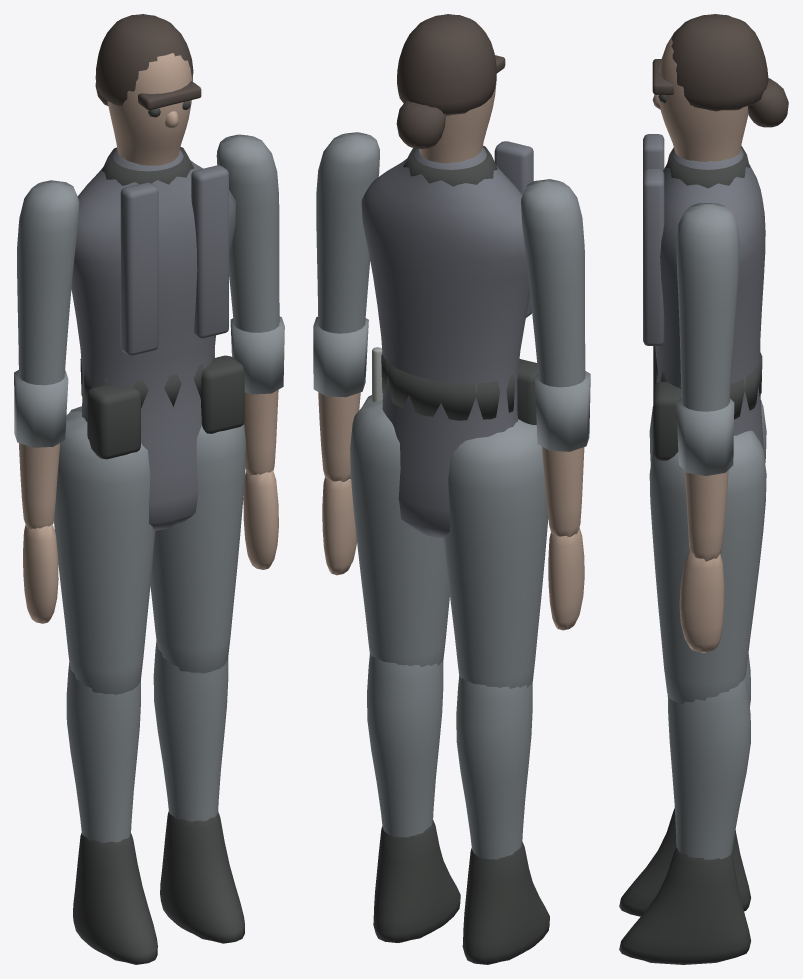
File: resident_b_v5.glb
3 renders of one model, left to right at view 1: azimuth 30°, elevation 25°; view 2: azimuth 150°, elevation 25°; view 3: azimuth 270°, elevation 25°, orthographic. The views are drawn at different scales.
Parts seen in each view (by area): view 1: Resident_Torso, Resident_Leg_-1, Resident_Leg_1, Resident_Arm_-1, Resident_Shin_1, Resident_Shin_-1, Resident_Arm_1, Resident_Boot_-1, Resident_Boot_1, Resident_Strap_-1, Resident_Strap_1, Resident_Head (+12 smaller); view 2: Resident_Torso, Resident_Leg_-1, Resident_Leg_1, Resident_Shin_-1, Resident_Shin_1, Resident_Arm_-1, Resident_Arm_1, Resident_Hair, Resident_Boot_1, Resident_Boot_-1, Resident_Belt, Resident_Cuff_-1 (+10 smaller); view 3: Resident_Leg_1, Resident_Torso, Resident_Shin_1, Resident_Arm_1, Resident_Boot_1, Resident_Hair, Resident_Head, Resident_Hand_1, Resident_Cuff_1, Resident_Strap_1, Resident_Forearm_1, Resident_Boot_-1 (+6 smaller).
Part boxes in pixels (left/top/right/bottom): Resident_Torso: left=71, top=148, right=236, bottom=530; Resident_Leg_-1: left=54, top=406, right=155, bottom=694; Resident_Leg_1: left=150, top=424, right=245, bottom=673; Resident_Arm_-1: left=17, top=180, right=79, bottom=385; Resident_Shin_1: left=153, top=641, right=228, bottom=821; Resident_Shin_-1: left=66, top=663, right=140, bottom=842; Resident_Arm_1: left=216, top=134, right=279, bottom=332; Resident_Boot_-1: left=73, top=833, right=157, bottom=964; Resident_Boot_1: left=160, top=811, right=244, bottom=943; Resident_Strap_-1: left=120, top=182, right=158, bottom=355; Resident_Strap_1: left=191, top=165, right=228, bottom=338; Resident_Head: left=107, top=53, right=192, bottom=165; Resident_Torso: left=361, top=147, right=529, bottom=538; Resident_Leg_-1: left=443, top=419, right=548, bottom=688; Resident_Leg_1: left=350, top=393, right=449, bottom=666; Resident_Shin_-1: left=456, top=675, right=532, bottom=859; Resident_Shin_1: left=367, top=653, right=443, bottom=837; Resident_Arm_-1: left=521, top=179, right=585, bottom=387; Resident_Arm_1: left=316, top=132, right=379, bottom=333; Resident_Hair: left=397, top=14, right=496, bottom=115; Resident_Boot_1: left=373, top=820, right=460, bottom=942; Resident_Boot_-1: left=462, top=841, right=549, bottom=964; Resident_Belt: left=381, top=354, right=518, bottom=420; Resident_Cuff_-1: left=535, top=371, right=590, bottom=451; Resident_Leg_1: left=649, top=430, right=766, bottom=704; Resident_Torso: left=652, top=148, right=765, bottom=454; Resident_Shin_1: left=667, top=675, right=750, bottom=859; Resident_Arm_1: left=676, top=203, right=739, bottom=411; Resident_Boot_1: left=619, top=847, right=750, bottom=964; Resident_Hair: left=671, top=14, right=768, bottom=111; Resident_Head: left=659, top=35, right=748, bottom=161; Resident_Hand_1: left=679, top=550, right=724, bottom=652; Resident_Cuff_1: left=676, top=397, right=734, bottom=475; Resident_Strap_1: left=643, top=169, right=664, bottom=345; Resident_Forearm_1: left=684, top=470, right=728, bottom=561; Resident_Boot_-1: left=619, top=808, right=750, bottom=916.
Size of the model in its own units: 0.5738 by 1.87 by 0.3147.
